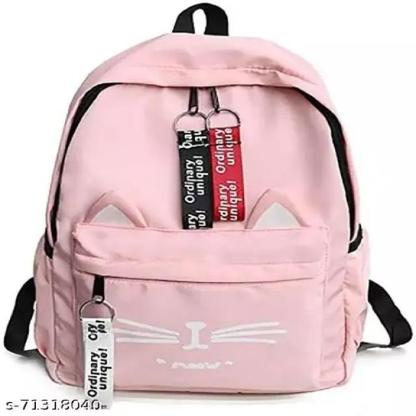bag: (0, 0, 415, 401)
